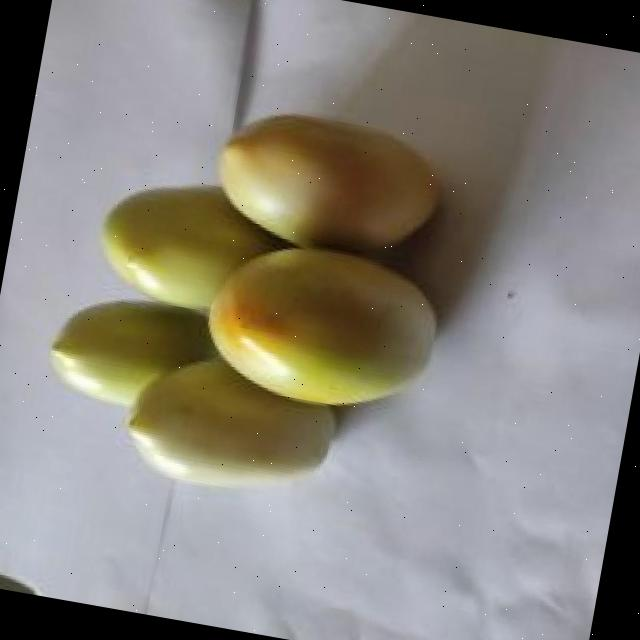tomato: (194, 231, 443, 424), (216, 112, 443, 253), (126, 351, 336, 490), (97, 181, 288, 315), (45, 296, 214, 406)
